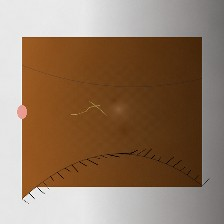corneal_ulcer: (81, 88, 135, 131)
